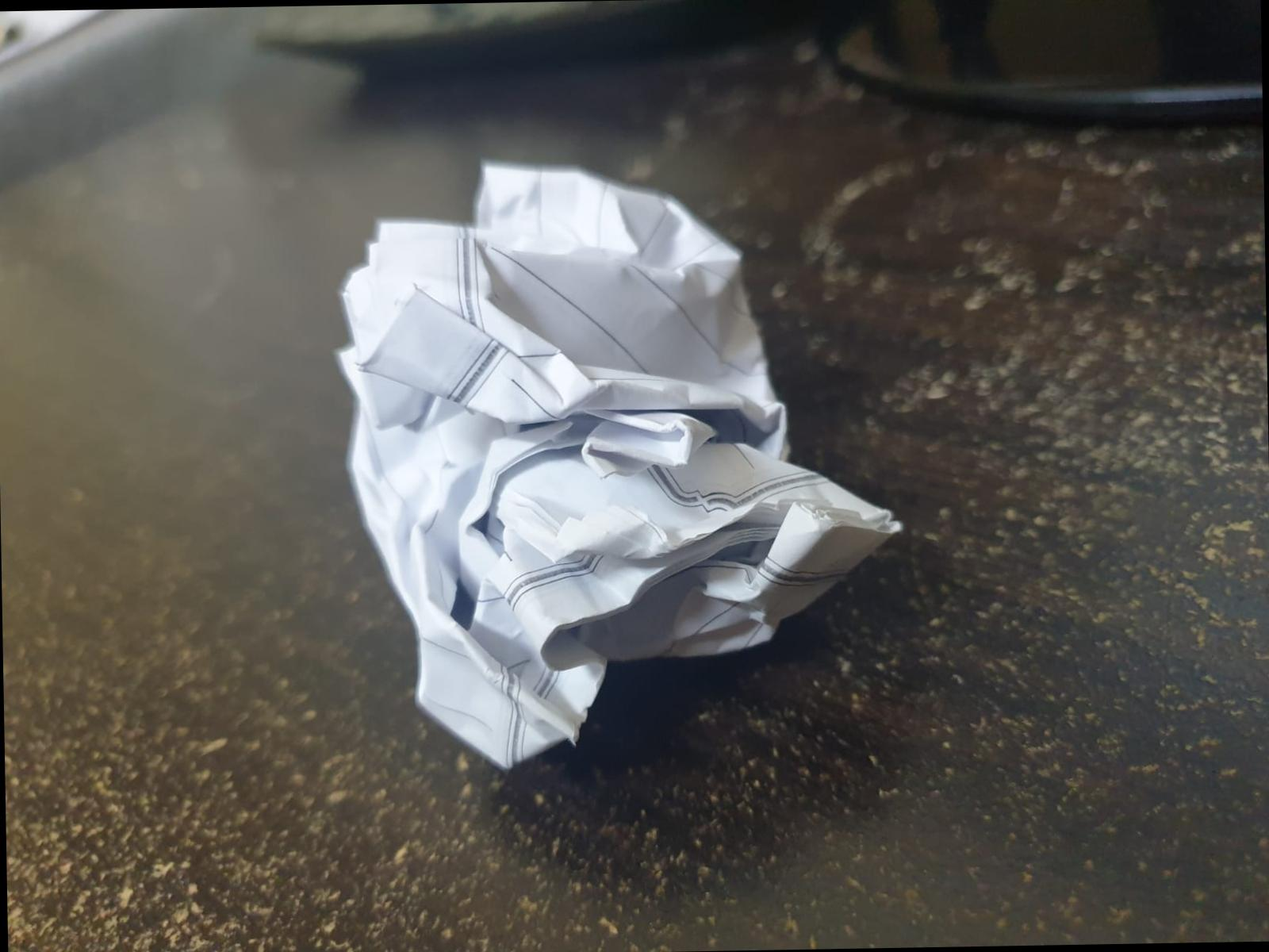Kertas: (341, 165, 902, 762)
